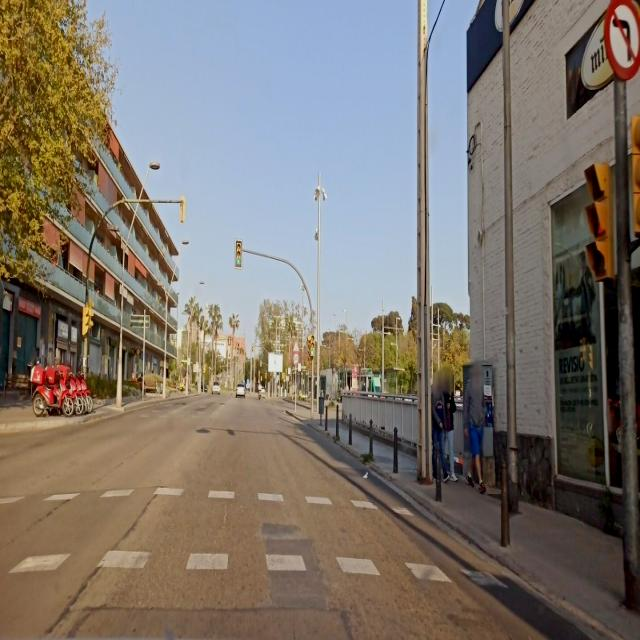bike: (34, 378, 74, 418), (54, 377, 84, 415)
car: (236, 382, 246, 398), (212, 380, 221, 394)
